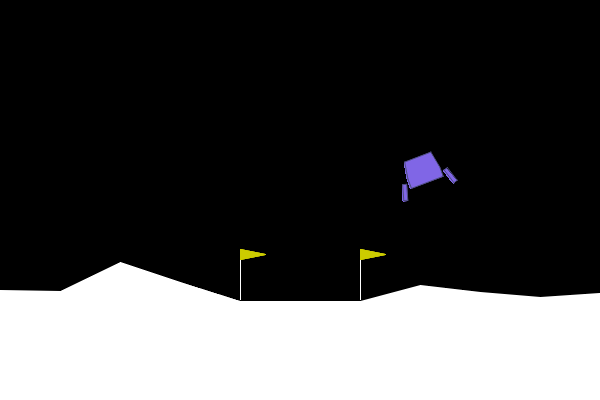lander: (388, 145, 459, 204)
